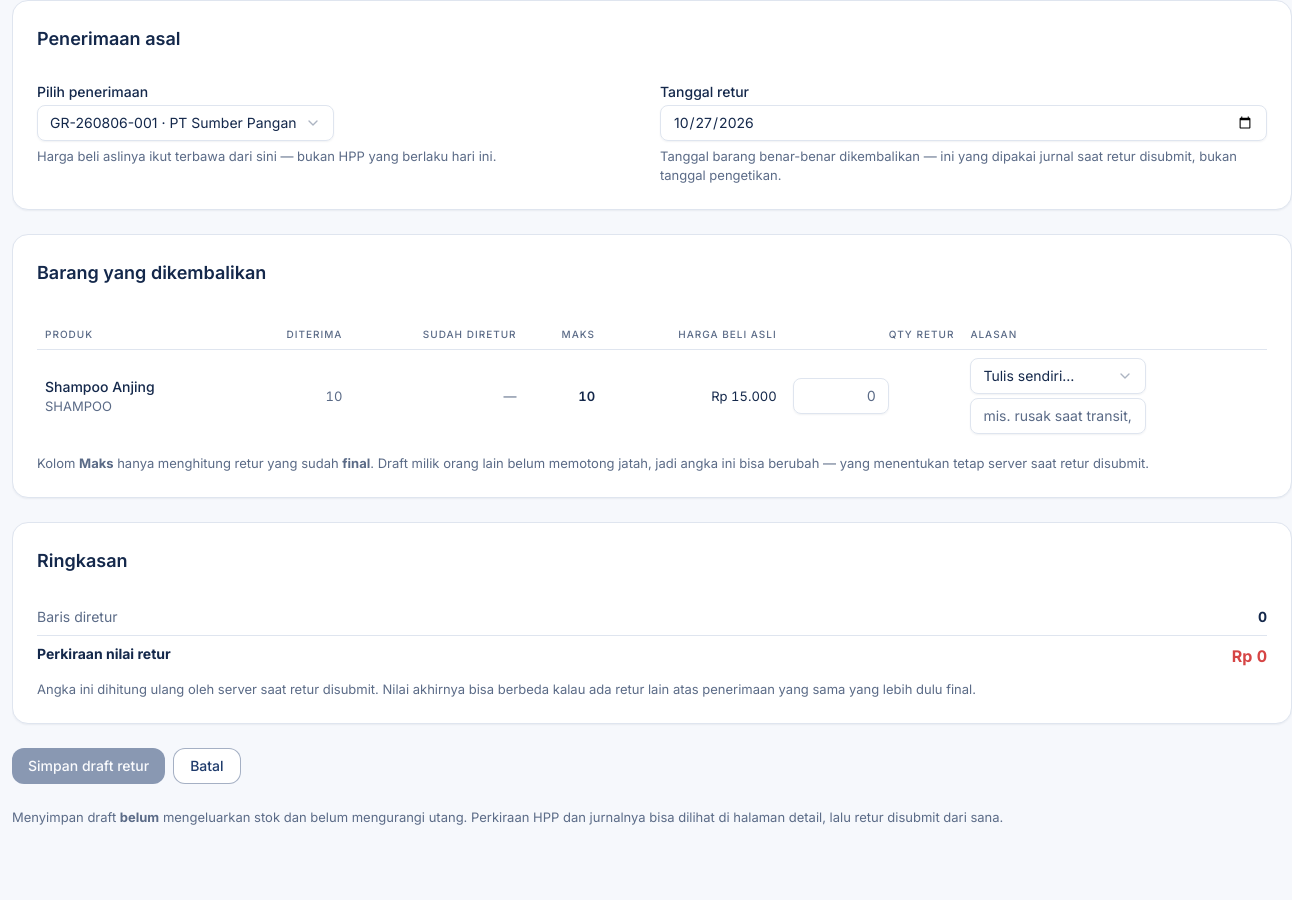
Test case: PurchaseReturnForm › will not save a line whose reason has not been given
This screenshot has width=1292, height=900.
Type "4" into the field named "Qty retur Shampoo Anjing" at (841, 396), box [793,378,889,414]
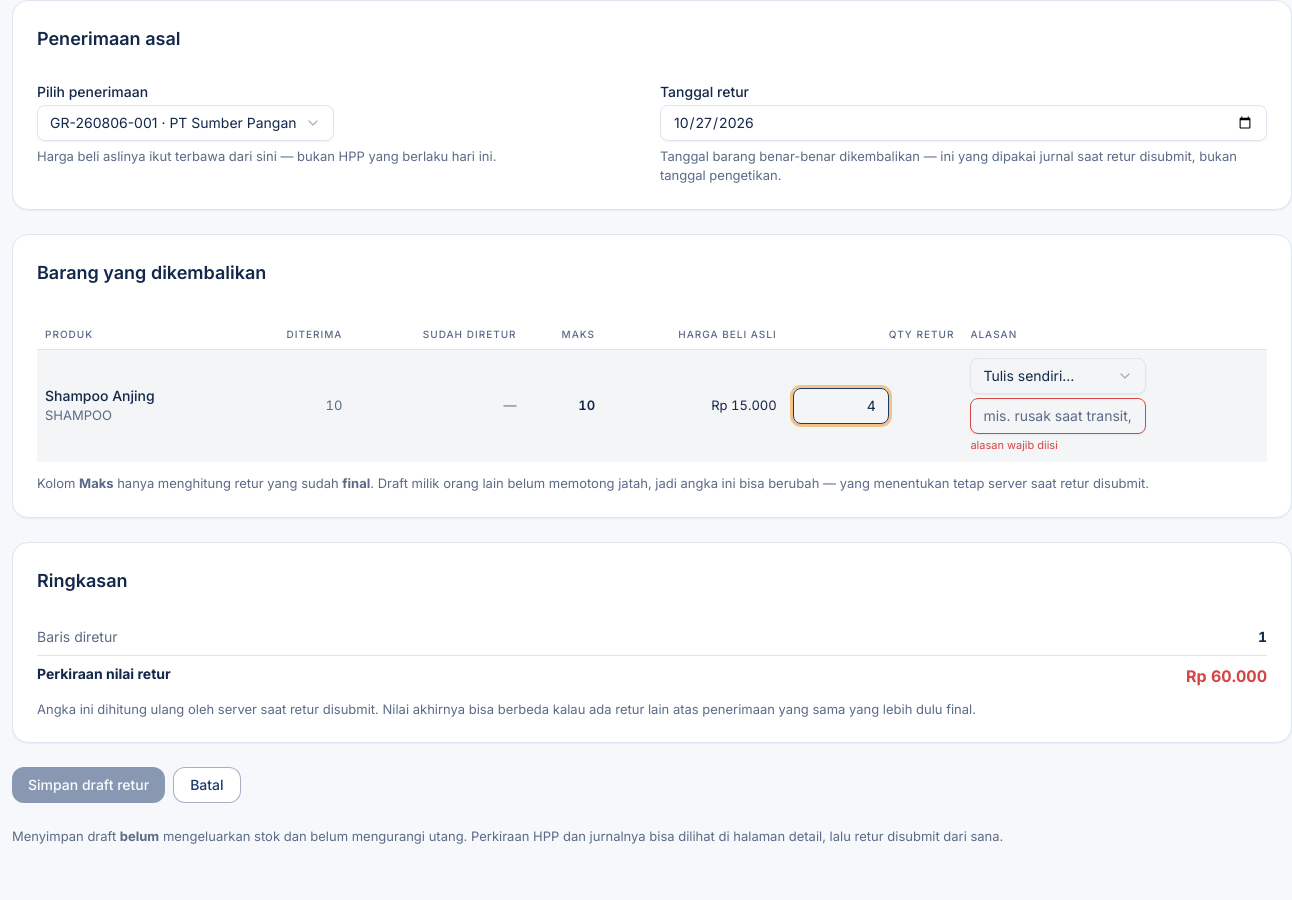
Expected: the button "Simpan draft retur" is disabled, [12,767,165,803]
Expected: the text "alasan wajib diisi" is shown, [970,438,1058,452]
